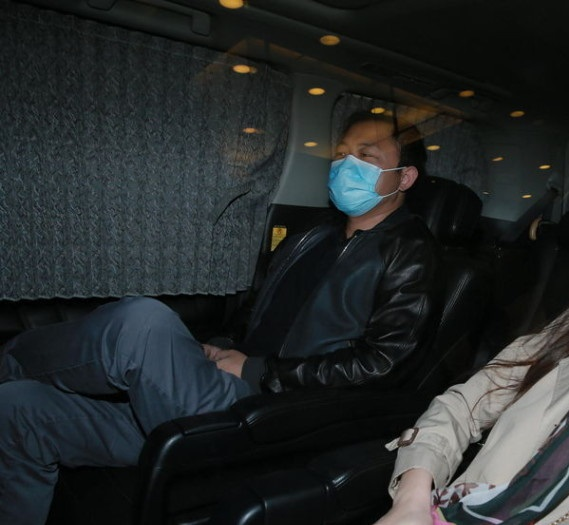face_mask: (331, 128, 391, 214)
